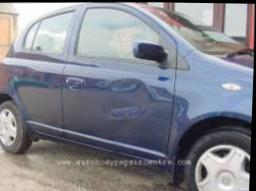Door: (98, 71, 173, 123)
